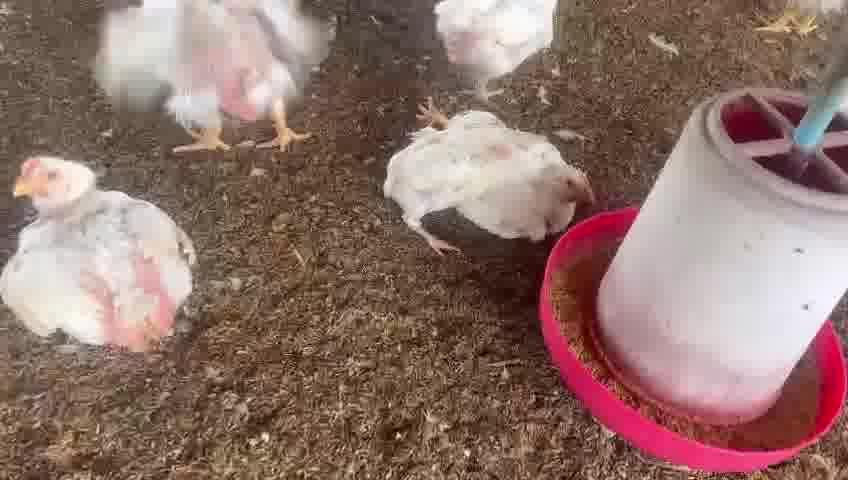AbNormal: (390, 90, 591, 258)
Normal: (7, 150, 198, 359), (93, 1, 315, 164), (421, 0, 564, 102)
